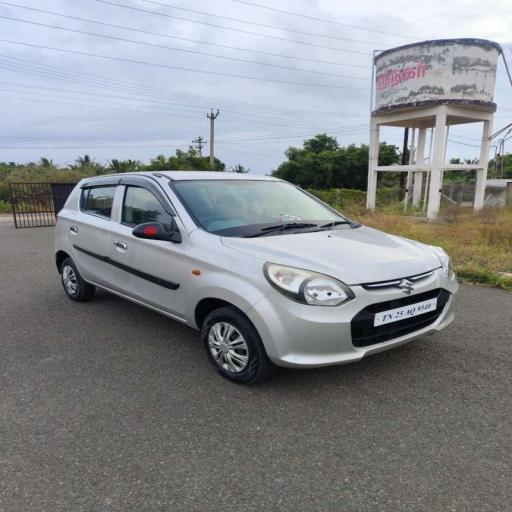License: (369, 293, 449, 330)
